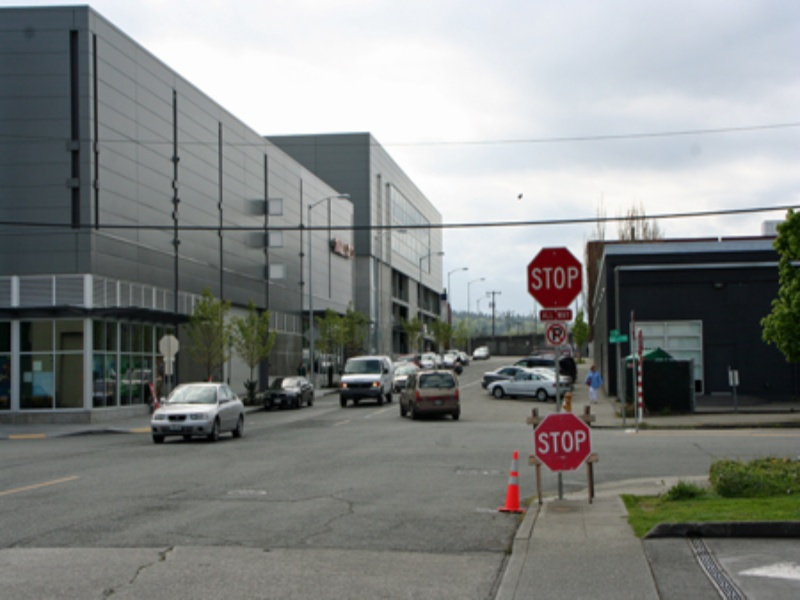stop sign: (528, 411, 593, 474), (524, 245, 585, 310)
